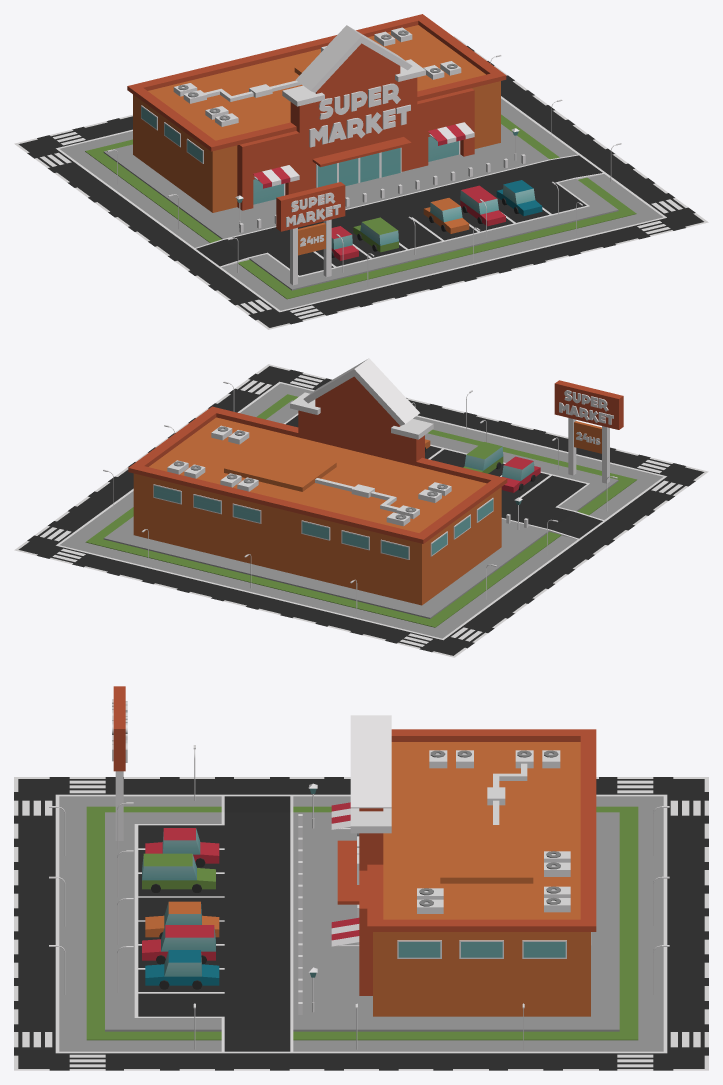
File: CommercialArea_Upgrade.fbx
3 views of the same model, one above another, from view 1: azimuth 30°, elevation 25°; view 2: azimuth 150°, elevation 25°; view 3: azimuth 270°, elevation 25° (orthographic). The views are drawn at different scales.
Visible parts, largest first — view 1: CommercialArea_Upgrade; view 2: CommercialArea_Upgrade; view 3: CommercialArea_Upgrade.
Boxes of the visible parts, x1,y1,x2,y2 form: CommercialArea_Upgrade: (14,14,708,329); CommercialArea_Upgrade: (14,358,708,657); CommercialArea_Upgrade: (14,686,708,1070).
Size of the model in its own units: 1000 by 335 by 1000.
Materials: 1 (1 with a texture image).
